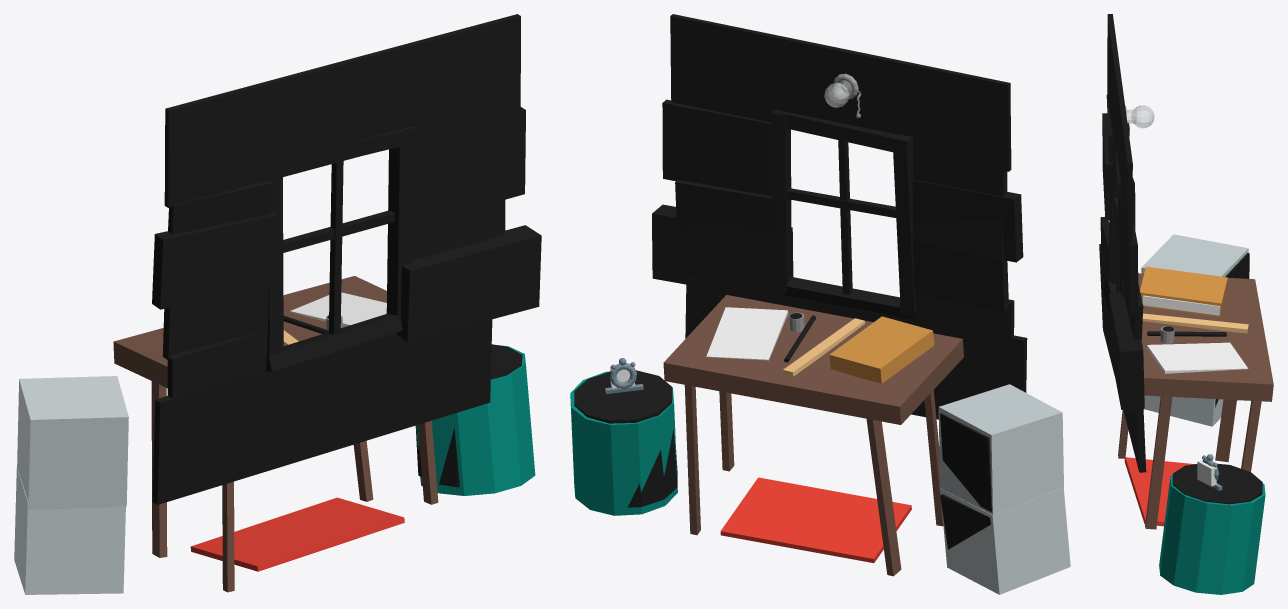
The model's file is study-table-by-window-by-michael-pretz-cu6YTWSmJ4p.glb.
3 renders of one model, left to right at view 1: azimuth 30°, elevation 25°; view 2: azimuth 150°, elevation 25°; view 3: azimuth 270°, elevation 25°, orthographic. The views are drawn at different scales.
Visible parts, largest first — view 1: group1496394384, group1707961635, group1142374827, group93528968, group1582685801, group242060174, group410240839, group1164661945, group1805364148, group555283123, group233785688, group640447708 (+14 smaller); view 2: group1496394384, group233785688, group1142374827, group1805364148, group242060174, group410240839, group1582685801, group93528968, group1707961635, group446381025, group555283123, group1164661945 (+19 smaller); view 3: group410240839, group233785688, group93528968, group1496394384, group1142374827, group1081262426, group446381025, group1674386045, group535361081, group1805364148, group1707961635, group242060174 (+17 smaller).
Boxes of the visible parts, <box> form: group1496394384: <box>164,14,520,207</box>; group1707961635: <box>152,319,492,504</box>; group1142374827: <box>17,376,128,509</box>; group93528968: <box>397,225,541,341</box>; group1582685801: <box>402,107,525,228</box>; group242060174: <box>14,468,125,594</box>; group410240839: <box>416,345,535,495</box>; group1164661945: <box>152,211,277,309</box>; group1805364148: <box>190,497,404,571</box>; group555283123: <box>162,286,268,359</box>; group233785688: <box>113,276,386,388</box>; group640447708: <box>167,330,267,398</box>; group1496394384: <box>670,14,1011,171</box>; group233785688: <box>663,295,963,424</box>; group1142374827: <box>938,384,1063,514</box>; group1805364148: <box>720,477,911,562</box>; group242060174: <box>940,487,1070,594</box>; group410240839: <box>570,371,677,515</box>; group1582685801: <box>662,99,771,196</box>; group93528968: <box>652,204,793,301</box>; group1707961635: <box>685,277,1027,419</box>; group446381025: <box>574,370,677,507</box>; group555283123: <box>913,240,1008,311</box>; group1164661945: <box>912,179,1023,262</box>; group410240839: <box>1159,474,1265,594</box>; group233785688: <box>1138,273,1273,401</box>; group93528968: <box>1109,292,1144,409</box>; group1496394384: <box>1107,14,1132,243</box>; group1142374827: <box>1141,234,1248,276</box>; group1081262426: <box>1140,266,1227,316</box>; group446381025: <box>1172,463,1262,504</box>; group1674386045: <box>1146,342,1248,373</box>; group535361081: <box>1145,396,1172,529</box>; group1805364148: <box>1124,457,1194,526</box>; group1707961635: <box>1099,244,1146,472</box>; group242060174: <box>1144,395,1237,426</box>.
Size of the model in its own units: 2.14 by 2 by 0.7474.
